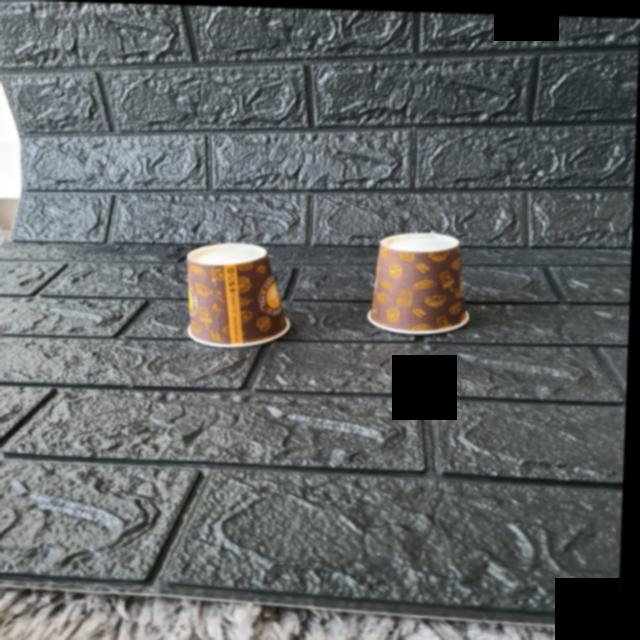cups: (176, 242, 301, 348), (361, 227, 472, 333)
